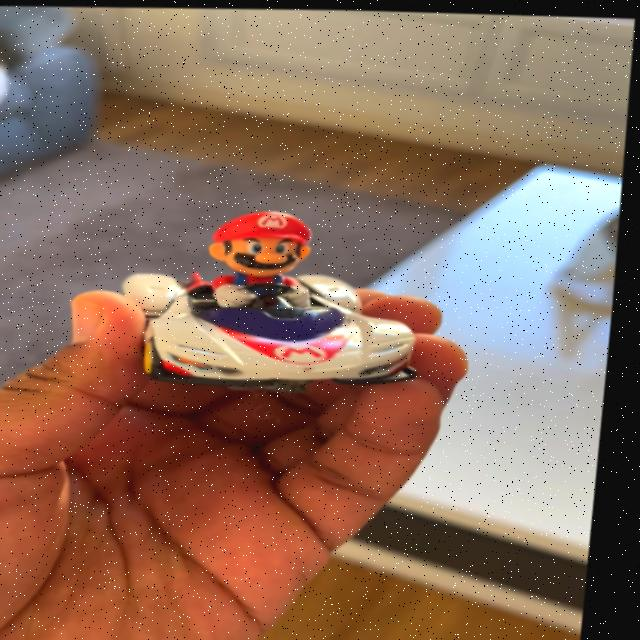mario: (100, 197, 447, 397)
